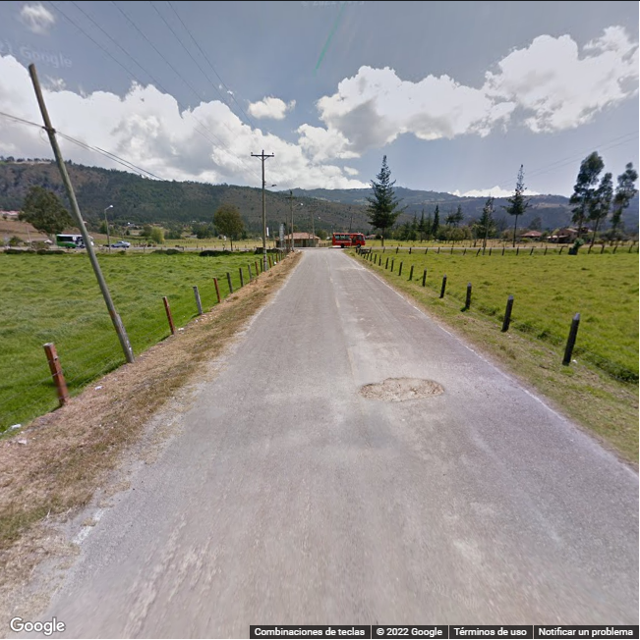D00: (196, 421, 229, 495), (294, 471, 315, 553)
D40: (357, 371, 440, 406)
